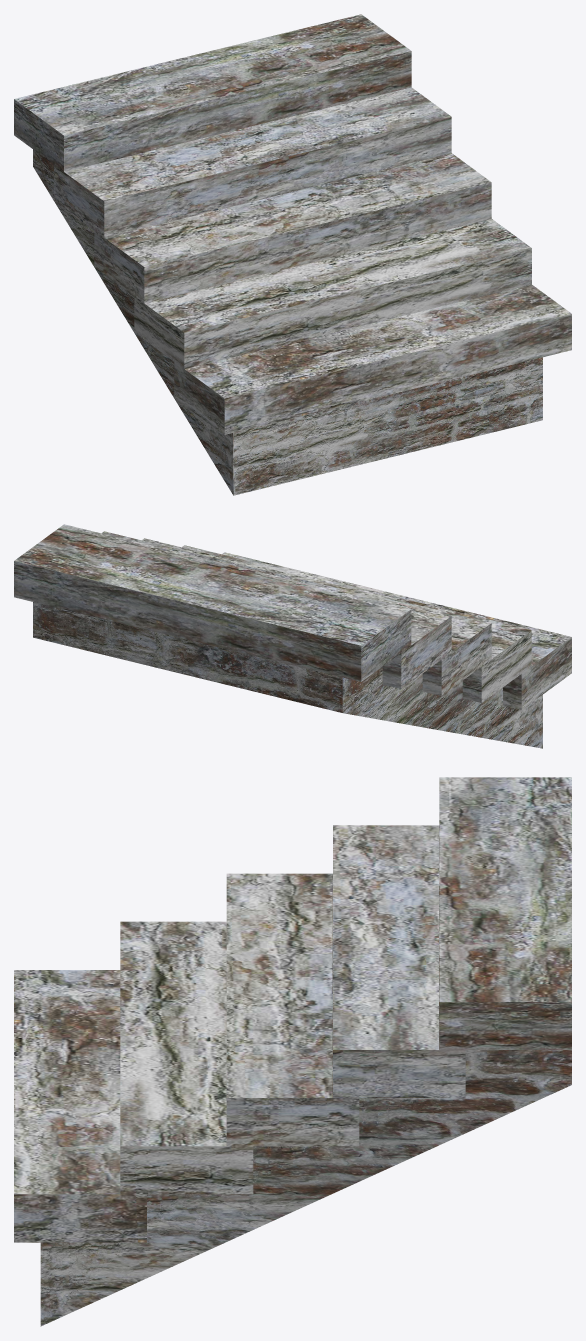
File: Stairs2x2x1high.FBX
The picture shows the model from 3 angles, top to bottom: view 1: azimuth 30°, elevation 25°; view 2: azimuth 150°, elevation 25°; view 3: azimuth 270°, elevation 25°; orthographic projection. The views are drawn at different scales.
Parts seen in each view (by area): view 1: Stairs2x2x1high; view 2: Stairs2x2x1high; view 3: Stairs2x2x1high.
Part boxes in pixels (box(x1,y1,x2,y2)): Stairs2x2x1high: box(14, 14, 571, 495); Stairs2x2x1high: box(14, 524, 571, 748); Stairs2x2x1high: box(14, 777, 571, 1326).
Size of the model in its own units: 400 by 280 by 420.
